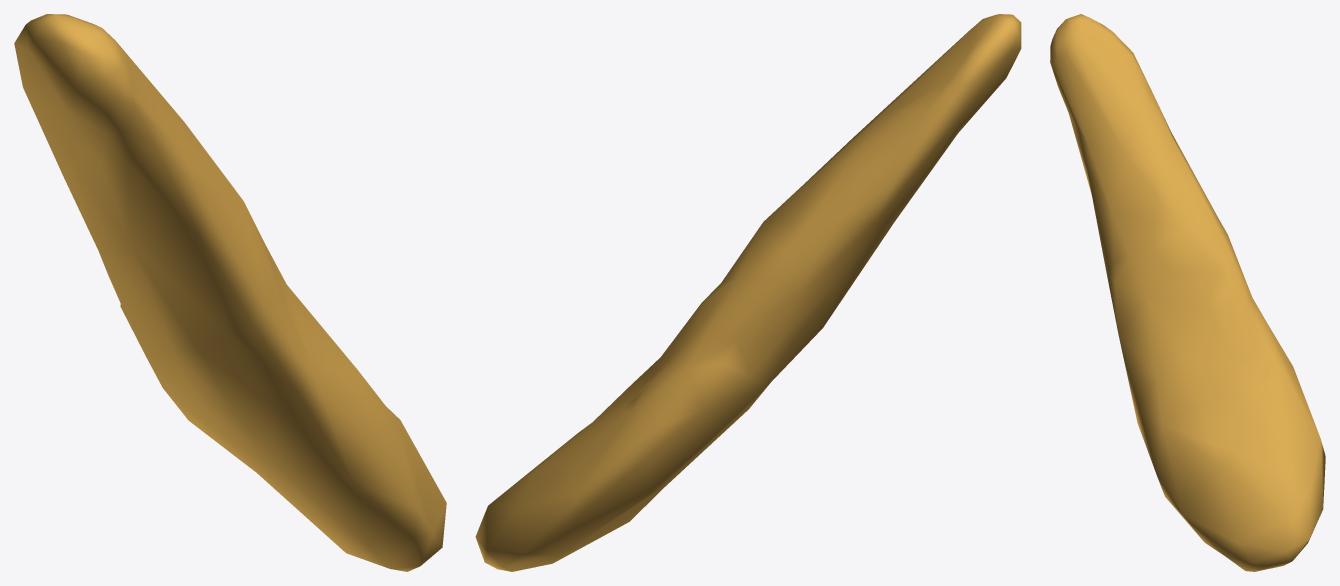
The picture shows the model from 3 angles, left to right: view 1: azimuth 30°, elevation 25°; view 2: azimuth 150°, elevation 25°; view 3: azimuth 270°, elevation 25°; orthographic projection. The views are drawn at different scales.
Visible parts, largest first — view 1: 右侧舌下腺; view 2: 右侧舌下腺; view 3: 右侧舌下腺.
Part boxes in pixels (x1,y1,x2,y2): 右侧舌下腺: (14,14,446,571); 右侧舌下腺: (475,14,1021,571); 右侧舌下腺: (1050,14,1325,571).
Size of the model in its own units: 0.024 by 0.0312 by 0.0185.
